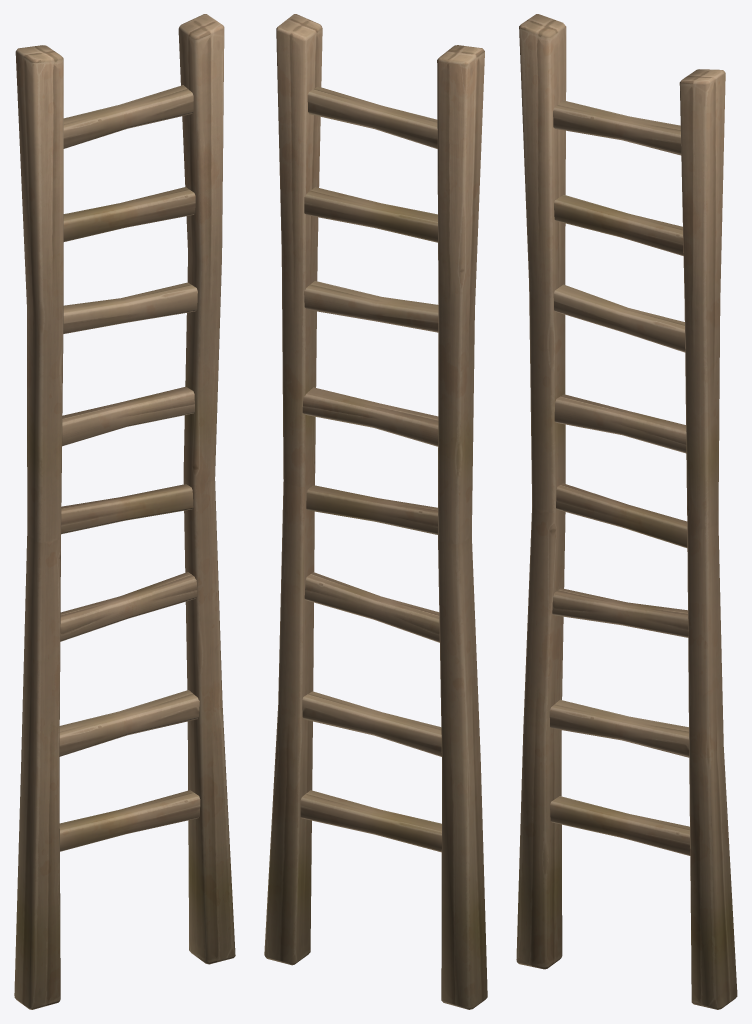
The model's file is Ladder_1.fbx.
The picture shows the model from 3 angles, left to right: view 1: azimuth 30°, elevation 25°; view 2: azimuth 150°, elevation 25°; view 3: azimuth 330°, elevation 25°; orthographic projection.
Parts seen in each view (by area): view 1: Ladder_1_LOD0; view 2: Ladder_1_LOD0; view 3: Ladder_1_LOD0.
Part boxes in pixels (x1,y1,x2,y2): Ladder_1_LOD0: [14, 14, 235, 1009]; Ladder_1_LOD0: [264, 14, 487, 1009]; Ladder_1_LOD0: [516, 14, 737, 1009].
Size of what is drawn, in the model's own units: 69.49 by 303 by 11.53.
